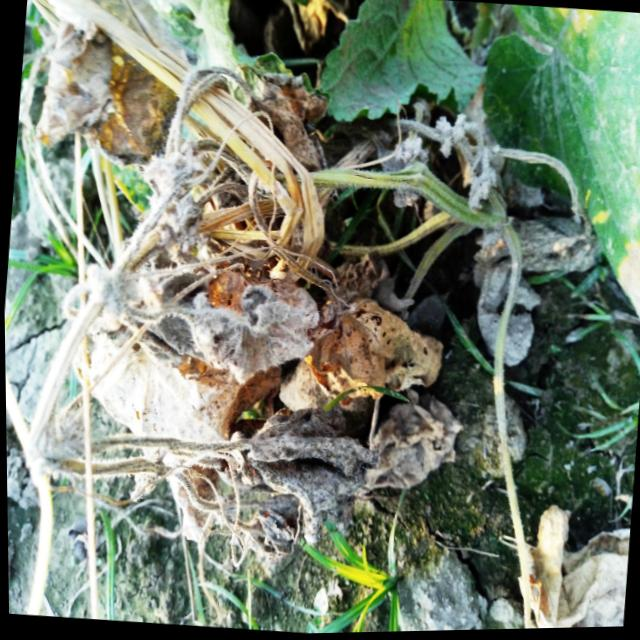Bacterial-Wilt: (71, 245, 475, 582)
